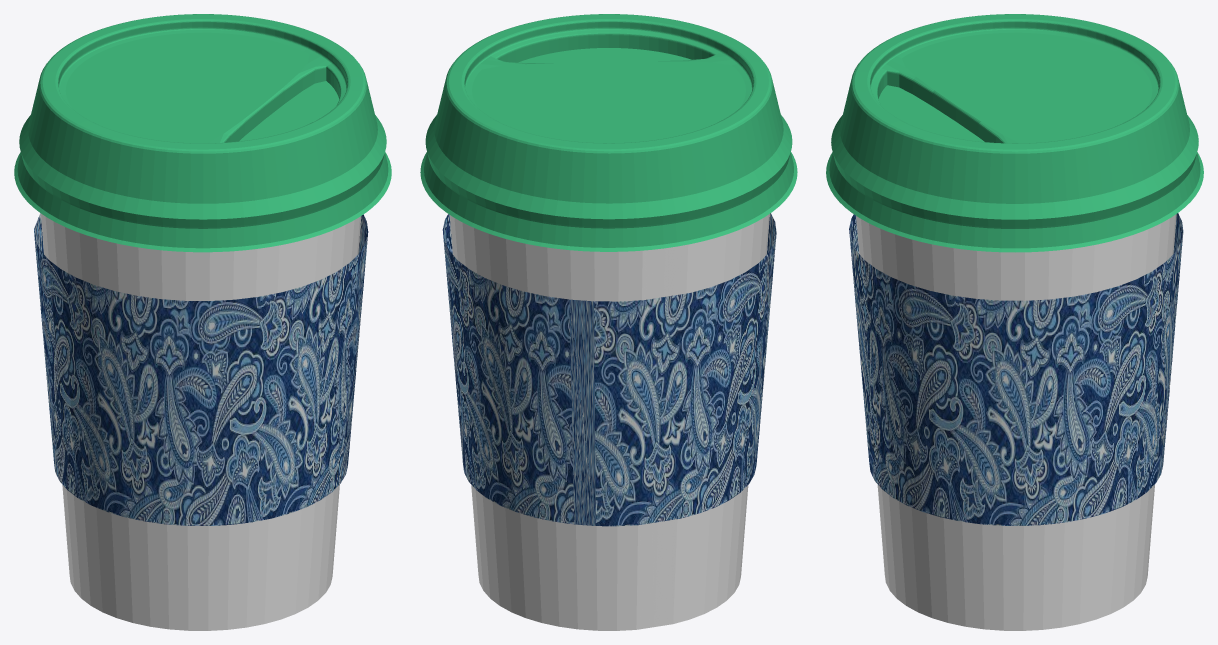
The model's file is Sleeve.fbx.
3 renders of one model, left to right at view 1: azimuth 30°, elevation 25°; view 2: azimuth 150°, elevation 25°; view 3: azimuth 270°, elevation 25°, orthographic.
Visible parts, largest first — view 1: coffee_cup.005, coffee_cup.006, coffee_cup.004; view 2: coffee_cup.005, coffee_cup.006, coffee_cup.004; view 3: coffee_cup.005, coffee_cup.006, coffee_cup.004.
Boxes of the visible parts, x1,y1,x2,y2 form: coffee_cup.005: (14,14,391,252); coffee_cup.006: (34,213,368,525); coffee_cup.004: (40,213,361,630); coffee_cup.005: (420,14,797,251); coffee_cup.006: (442,213,776,526); coffee_cup.004: (449,214,769,630); coffee_cup.005: (826,14,1203,252); coffee_cup.006: (849,213,1183,525); coffee_cup.004: (856,214,1176,630).
Bounding box in the file's own units: 9 × 13 × 9.
